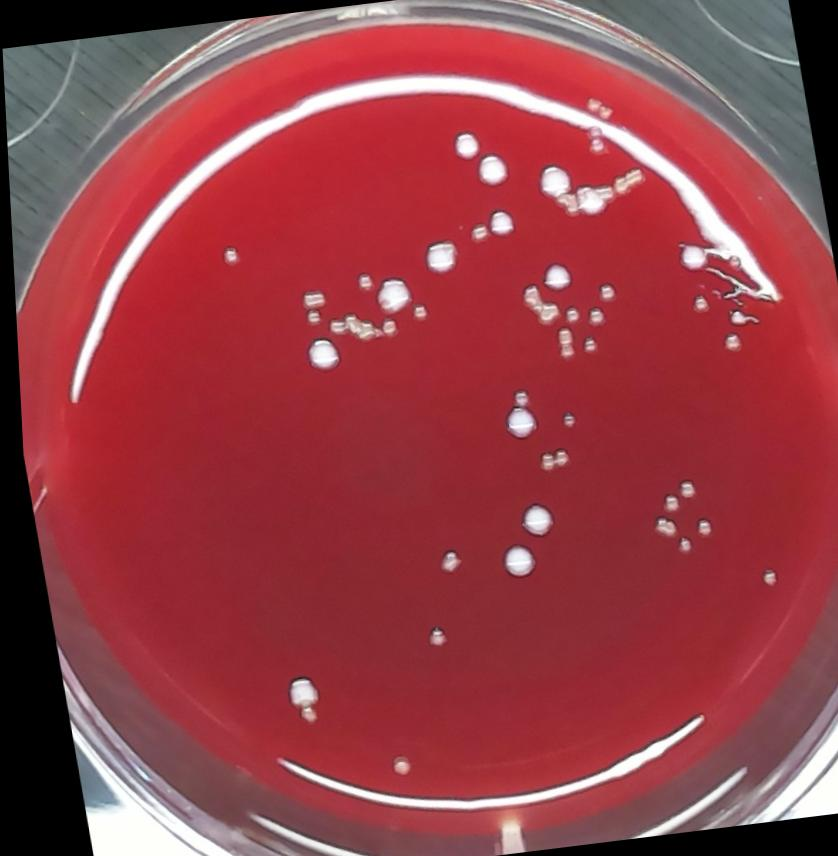staphylo-: (514, 280, 561, 328), (322, 311, 377, 348), (427, 543, 465, 579), (608, 165, 649, 197), (410, 620, 445, 652), (549, 189, 580, 221), (547, 326, 574, 360), (532, 446, 566, 473), (294, 286, 328, 312), (461, 220, 490, 248), (643, 514, 674, 540), (380, 753, 405, 782), (215, 241, 241, 268), (714, 328, 741, 354), (750, 563, 776, 590), (654, 491, 680, 517), (688, 515, 711, 542), (350, 268, 374, 292), (291, 702, 315, 725), (592, 281, 616, 304), (583, 304, 605, 328), (506, 386, 527, 410), (377, 316, 398, 339), (406, 302, 428, 323), (669, 535, 690, 556), (671, 479, 693, 499), (576, 333, 595, 356), (558, 304, 579, 324), (556, 409, 575, 430), (300, 308, 321, 326)
